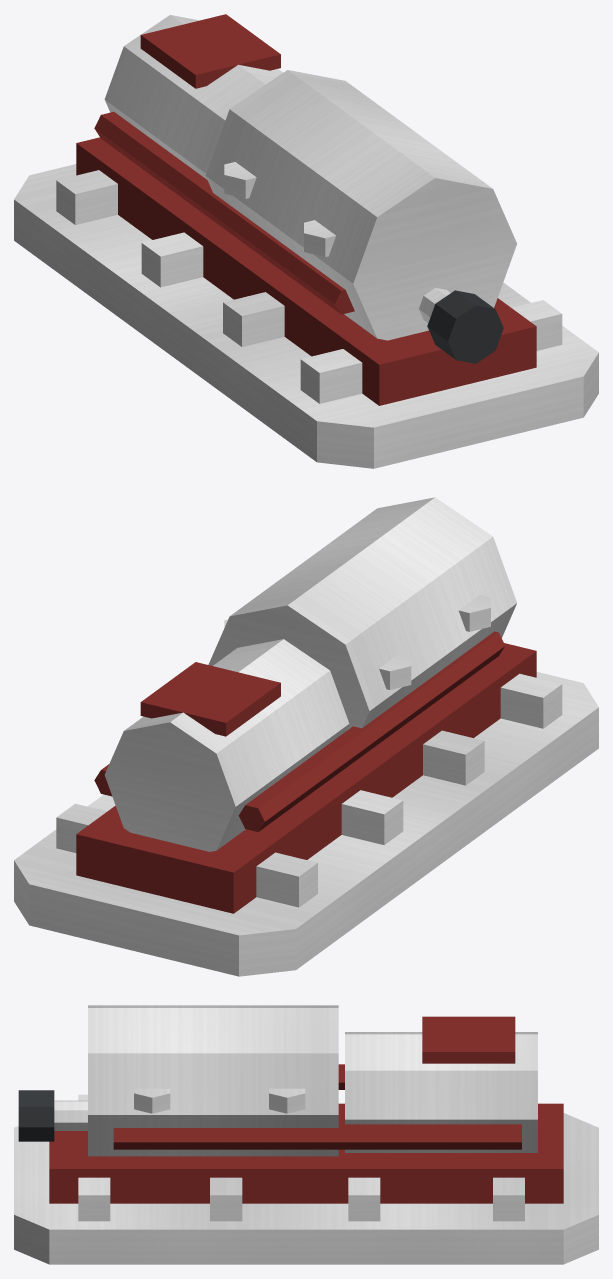
File: hemogen_amplifier.obj
The picture shows the model from 3 angles, top to bottom: view 1: azimuth 30°, elevation 25°; view 2: azimuth 150°, elevation 25°; view 3: azimuth 270°, elevation 25°; orthographic projection. The views are drawn at different scales.
Parts seen in each view (by area): view 1: hemogen_amplifier; view 2: hemogen_amplifier; view 3: hemogen_amplifier.
Part boxes in pixels (x1,y1,x2,y2): hemogen_amplifier: (14, 14, 598, 468); hemogen_amplifier: (14, 497, 598, 976); hemogen_amplifier: (14, 1005, 598, 1264).
Bounding box in the file's own units: 0.86 × 0.68 × 1.82.
